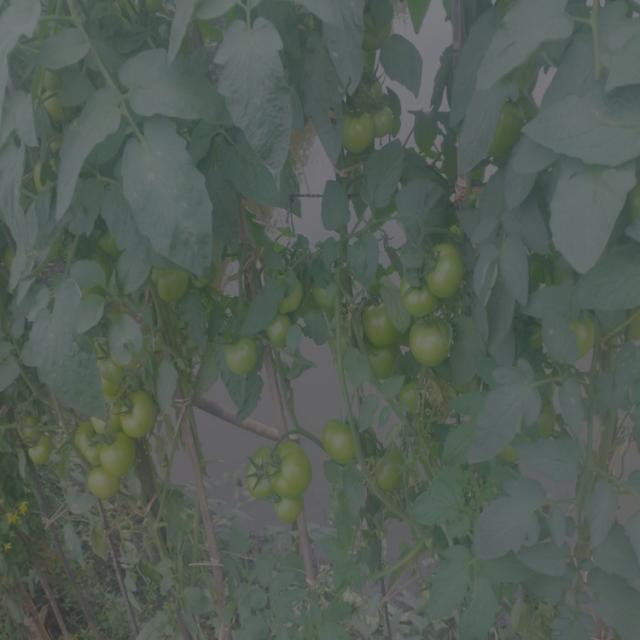tomato: (250, 444, 313, 520), (350, 106, 404, 154), (407, 319, 458, 368), (428, 234, 466, 294), (76, 431, 133, 467), (494, 96, 526, 157), (15, 419, 52, 461), (157, 263, 195, 301), (365, 305, 404, 342), (220, 338, 257, 374), (122, 391, 158, 428), (324, 422, 358, 460), (95, 351, 122, 398), (281, 278, 311, 312), (569, 317, 595, 356), (316, 275, 349, 305), (88, 473, 121, 503), (267, 318, 295, 352), (40, 73, 61, 117), (361, 17, 391, 46), (403, 274, 424, 315), (534, 403, 555, 440), (371, 352, 398, 378), (398, 387, 423, 413), (377, 462, 401, 488)
